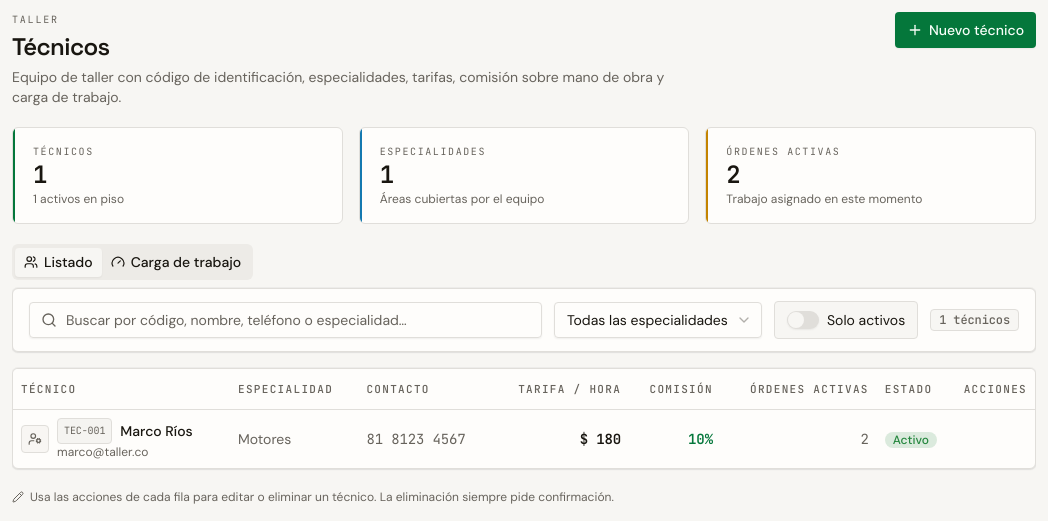
TechniciansPage › shows each technician's active order count in the workload tab
expect the text "Marco Ríos" is shown: met, box [120,420,193,440]
Click the tab with test id "technicians.tab.workload". click: (176, 262)
box: [102,248,250,276]
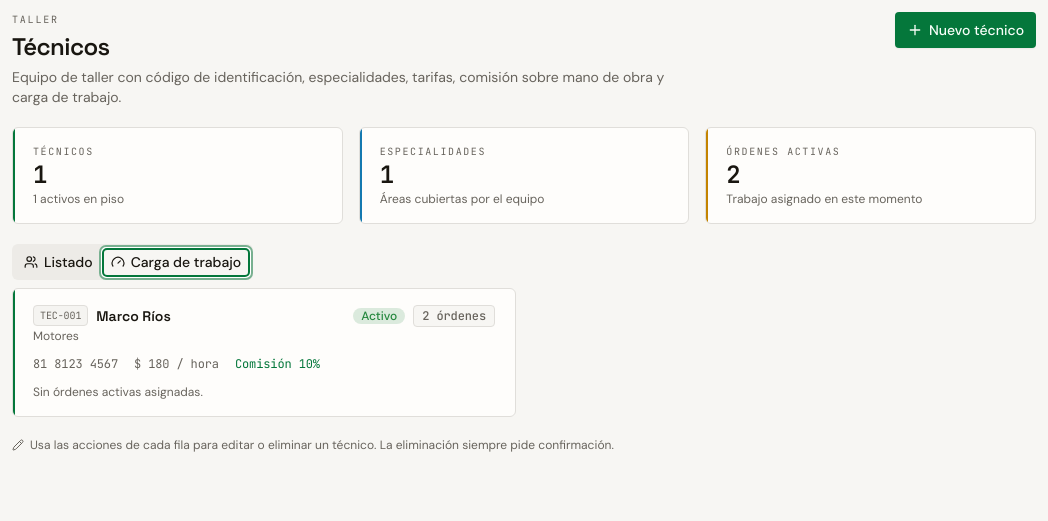
expect the element with test id "technicians.workload.card.1" is shown: met, box [12,288,516,417]
expect the text "2 órdenes" is shown: met, box [413,305,495,327]
